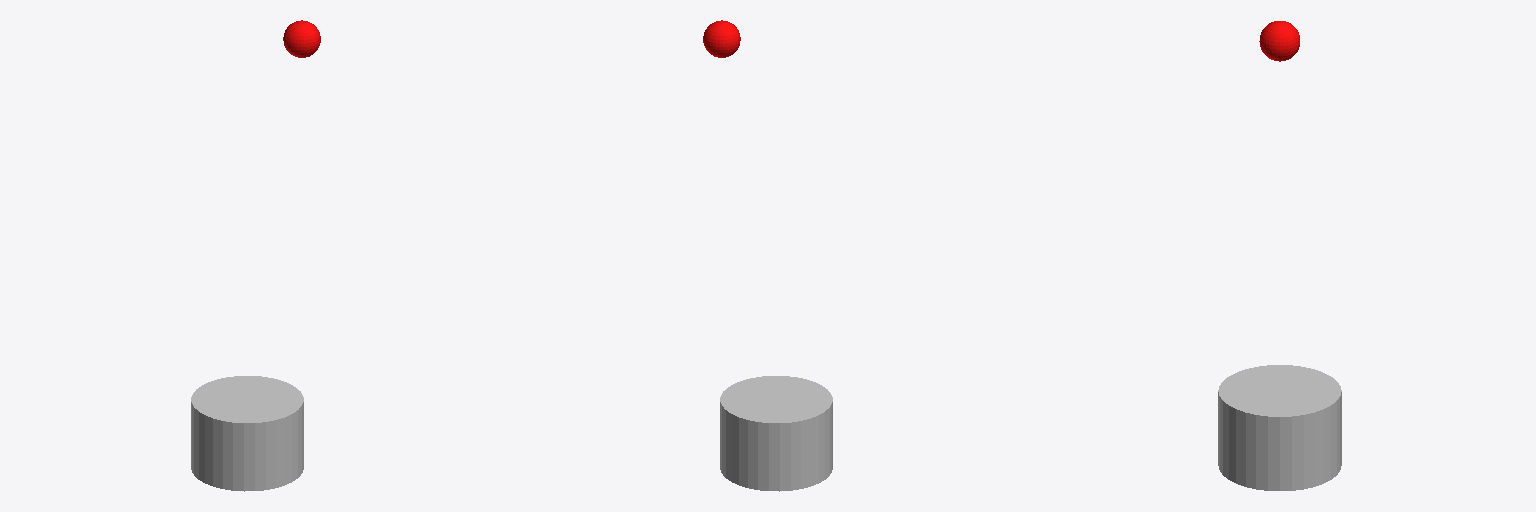
The robot description file, URDF, robot "pupper_arm":
<?xml version="1.0"?>
<!-- created with Phobos 1.0.1 "Capricious Choutengan" -->
  <robot name="pupper_arm">
    <link name="base">
      <inertial>
        <origin xyz="0 0 0" rpy="0 0 0"/>
        <mass value="0.200"/>
        <inertia ixx="1e-03" ixy="0" ixz="0" iyy="1e-03" iyz="0" izz="1e-03"/>
      </inertial>
      <visual name="Base">
        <origin xyz="0 0 -0.032" rpy="0 0 0"/>
        <!-- <geometry>
          <mesh filename="meshes/3dof_base.obj" scale="0.001 0.001 0.001"/>
        </geometry> -->
        <geometry>
          <cylinder radius="0.03" length="0.04"/>
        </geometry>
        <material name="PupperMaterial"/>
      </visual>
    </link>

    <link name="leftFrontLeg">
      <inertial>
        <origin xyz="0.0139 0.0254 0" rpy="0 0 0"/>
        <mass value="0.106"/>
        <inertia ixx="2e-05" ixy="0" ixz="0" iyy="6e-05" iyz="0" izz="6e-05"/>
      </inertial>
      <!-- <visual name="Hip_L">
        <origin xyz="0 0 0" rpy="0 0 0"/>
        <geometry>
          <mesh filename="meshes/Hip_L.obj" scale="1.0 1.0 1.0"/>
        </geometry>
        <material name="PupperMaterial"/>
      </visual> -->
      <collision name="Hip L">
        <origin xyz="0.0235 0.0265 0" rpy="1.5708 0 -1.5708"/>
        <geometry>
          <cylinder radius="0.015" length="0.075"/>
        </geometry>
      </collision>
    </link>

    <link name="leftFrontLowerLeg">
      <inertial>
        <origin xyz="0.00558 -0.00075 -0.0658" rpy="0 0 0"/>
        <mass value="0.038"/>
        <inertia ixx="0.00018" ixy="0" ixz="0" iyy="0.00018" iyz="0" izz="2e-05"/>
      </inertial>
      <!-- <visual name="Lower_Leg_L">
        <origin xyz="0 0 0" rpy="0 0 0"/>
        <geometry>
          <mesh filename="meshes/Lower_Leg_L.obj" scale="1.0 1.0 1.0"/>
        </geometry>
        <material name="PupperMaterial"/>
      </visual> -->
      <collision name="Lower Leg L">
        <origin xyz="0.00699 0 -0.05223" rpy="0 0 0"/>
        <geometry>
          <box size="0.00951 0.012 0.10758"/>
        </geometry>
      </collision>
    </link>

    <link name="leftFrontToe">
      <inertial>
        <origin xyz="0 0 0" rpy="0 0 0"/>
        <mass value="0.0001"/>
        <inertia ixx="2e-05" ixy="0" ixz="0" iyy="2e-05" iyz="0" izz="2e-05"/>
      </inertial>
      <visual>
        <origin rpy="0.00000 -0.00000 0.00000" xyz="0.00 0.00000 0.000"/>
        <geometry>
          <sphere radius="0.01"/>
        </geometry>
        <material name="red">
          <color rgba="1.00000 .100000 .100000 1.00000" />
        </material>
		  </visual>
      <collision name="Sphere.003">
        <origin xyz="0 0 0" rpy="0 0 0"/>
        <geometry>
          <sphere radius="0.0095"/>
        </geometry>
      </collision>
    </link>

    <link name="leftFrontUpperLeg">
      <inertial>
        <origin xyz="0.0172 0 -0.061" rpy="0 0 0"/>
        <mass value="0.142"/>
        <inertia ixx="0.00014" ixy="0" ixz="0" iyy="0.00016" iyz="0" izz="3e-05"/>
      </inertial>
      <!-- <visual name="Upper_Leg_-_Pupper_2.1_v57">
        <origin xyz="0 0 0" rpy="0 0 0"/>
        <geometry>
          <mesh filename="meshes/Upper_Leg_-_Pupper_2.1_v57.obj" scale="1.0 1.0 1.0"/>
        </geometry>
        <geometry>
          <box size="0.00951 0.012 0.10758"/>
          <cylinder radius="0.015" length="0.065"/>
        </geometry>
        <material name="PupperMaterial"/>
      </visual> -->
      <collision name="Upper Leg - Pupper 2.1 v57">
        <origin xyz="0.0169 0 -0.08" rpy="1.5708 0 1.5708"/>
        <geometry>
          <cylinder radius="0.015" length="0.065"/>
        </geometry>
      </collision>
    </link>

   

    <joint name="leftFrontLowerLegMotor" type="revolute">
      <origin xyz="-0.004 0 -0.08" rpy="0 0 3.14159"/>
      <parent link="leftFrontUpperLeg"/>
      <child link="leftFrontLowerLeg"/>
      <axis xyz="-1.0 0 0"/>
      <limit lower="-6" upper="6" effort="0" velocity="0"/>
    </joint>

    <joint name="leftFrontToe" type="fixed">
      <origin xyz="0.002 0 -0.11" rpy="0 0 -3.14159"/>
      <parent link="leftFrontLowerLeg"/>
      <child link="leftFrontToe"/>
    </joint>

    <joint name="leftFrontUpperLegMotor" type="revolute">
      <origin xyz="0.0395 0.0265 0" rpy="1.5708 0 0"/>
      <parent link="leftFrontLeg"/>
      <child link="leftFrontUpperLeg"/>
      <axis xyz="1.0 0 0"/>
      <limit lower="-0.8" upper="6" effort="0" velocity="0"/>
    </joint>

    <joint name="baseMotor" type="revolute">
      <origin xyz="0 0 -0.025" rpy="1.5708 0 0"/>
      <parent link="base"/>
      <child link="leftFrontLeg"/>
      <axis xyz="0 -1.0 0"/>
      <limit lower="-6" upper="6" effort="0" velocity="0"/>
    </joint>

    <material name="PupperMaterial">
      <color rgba="0.8 0.8 0.8 1.0"/>
    </material>

  </robot>

--- What the picture shows (computed from the rendered views, not written in the file) ---
3 views of the same robot in one strip: view 1: azimuth 30°, elevation 25°; view 2: azimuth 150°, elevation 25°; view 3: azimuth 270°, elevation 25° (orthographic).
Model pupper_arm with 5 links and 4 joints (3 revolute, 1 fixed), rooted at base, posed all joints at 0.
Visible links, largest first — view 1: base, leftFrontToe; view 2: base, leftFrontToe; view 3: base, leftFrontToe.
Boxes of the visible links, x1,y1,x2,y2 form: base: [191, 376, 303, 491]; leftFrontToe: [283, 20, 320, 57]; base: [720, 376, 832, 491]; leftFrontToe: [703, 20, 740, 57]; base: [1218, 365, 1341, 490]; leftFrontToe: [1259, 21, 1299, 61].
Bounding box of the posed robot: 0.0735 × 0.06 × 0.2535 m (x, y, z).
Geometry: primitives only (box / cylinder / sphere), no mesh files.
